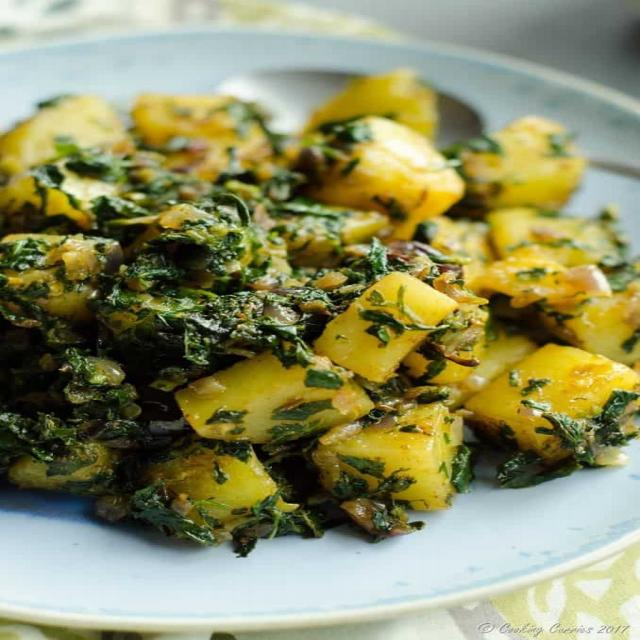Aloo Methi: (0, 70, 637, 542)
